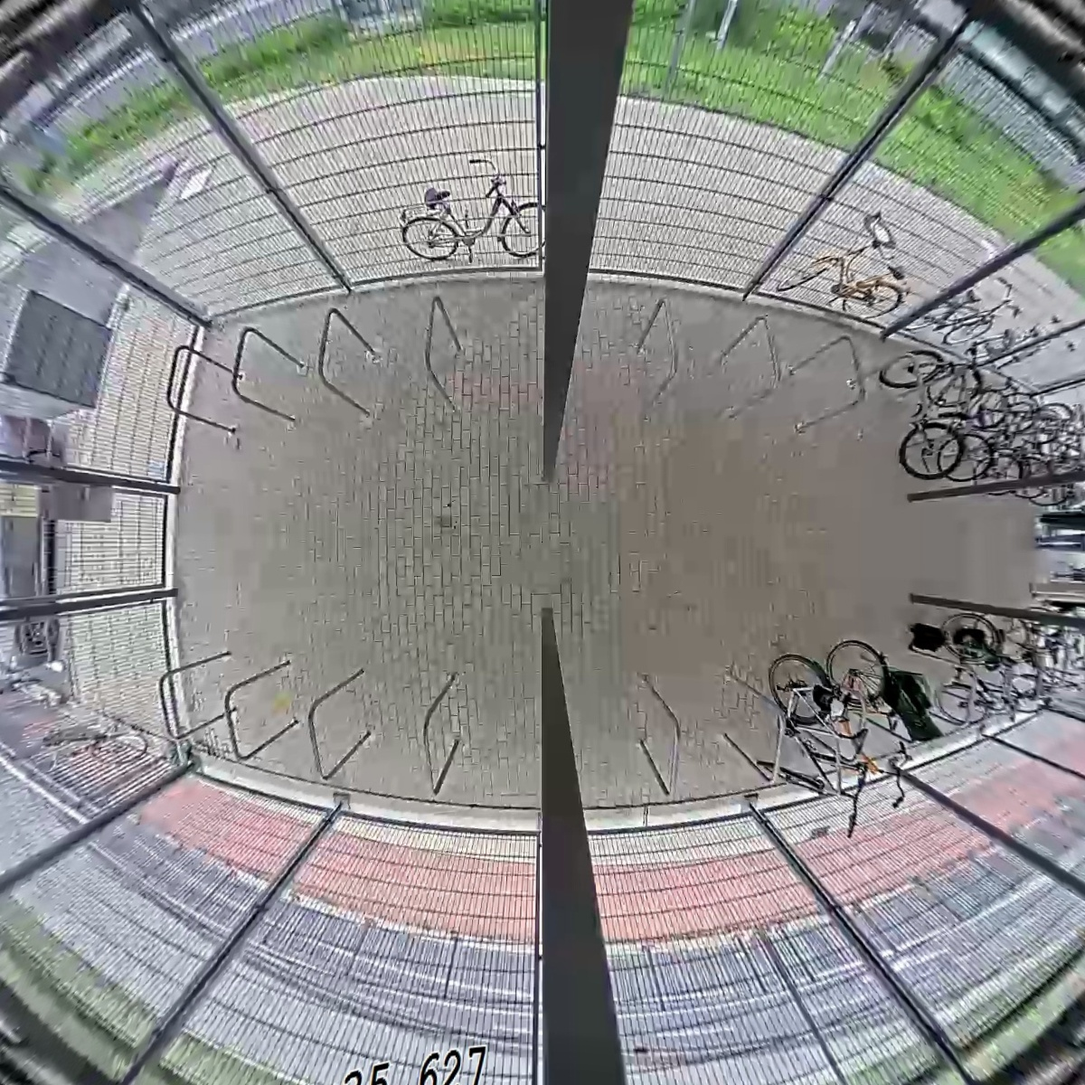bicylce: (877, 343, 988, 486), (813, 638, 900, 784), (763, 655, 846, 801), (926, 359, 1020, 487), (933, 610, 1023, 737), (1005, 598, 1082, 726), (962, 602, 1031, 722), (989, 390, 1058, 500), (964, 382, 1027, 501)
saddle: (881, 706, 903, 736), (847, 727, 869, 753), (974, 400, 992, 431), (999, 418, 1015, 444), (1026, 647, 1042, 670), (1070, 636, 1085, 658), (1043, 455, 1058, 474), (1049, 645, 1061, 666)
